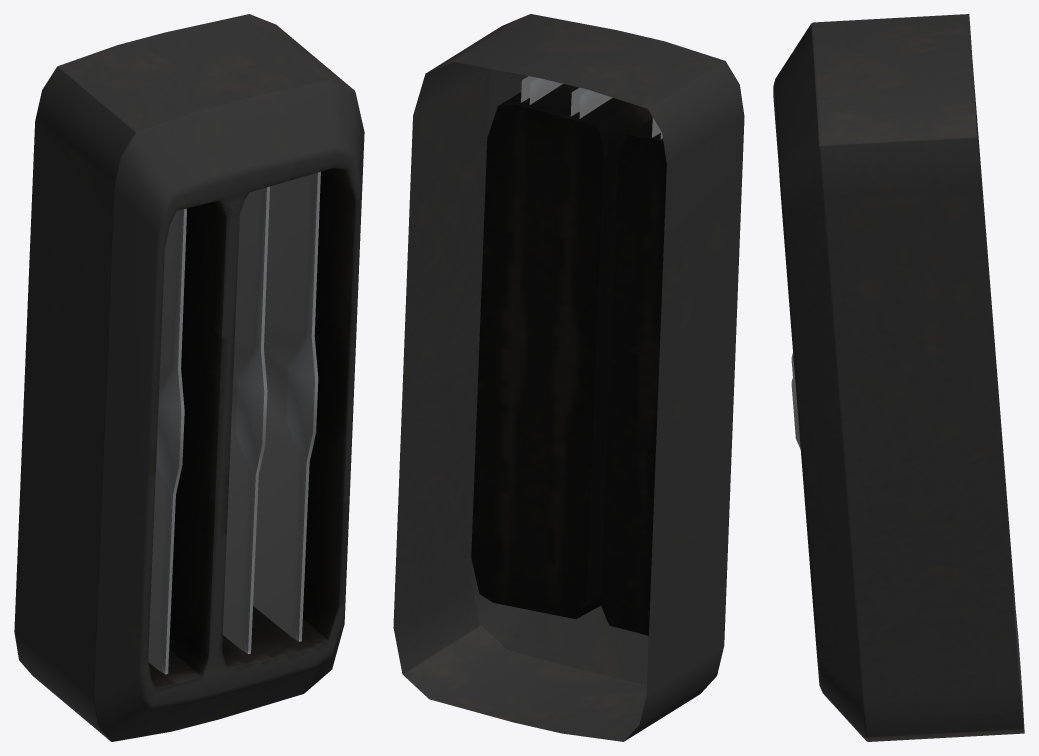
Rendered from Vent 2.fbx.
3 views of the same model, side by side, from view 1: azimuth 30°, elevation 25°; view 2: azimuth 150°, elevation 25°; view 3: azimuth 270°, elevation 25° (orthographic).
Parts seen in each view (by area): view 1: Vent_2; view 2: Vent_2; view 3: Vent_2.
Part boxes in pixels (<box>): Vent_2: <box>14,14,364,741</box>; Vent_2: <box>393,14,744,741</box>; Vent_2: <box>773,14,1024,741</box>.
Size of the model in its own units: 9.38 by 22.8 by 8.08.
